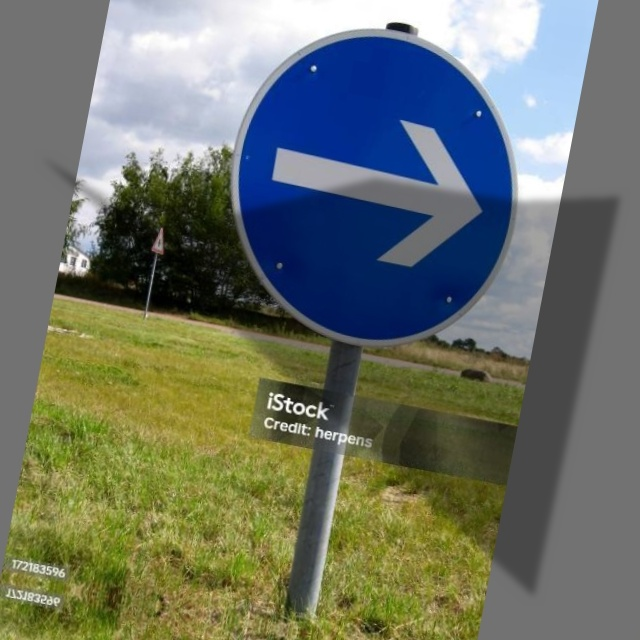Compulsory_Turn_Right: (206, 6, 550, 365)
